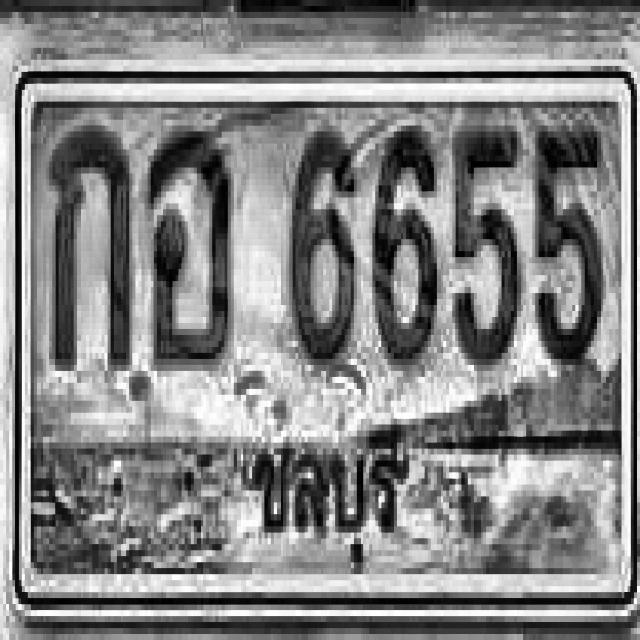license-plate: (9, 54, 640, 616)
